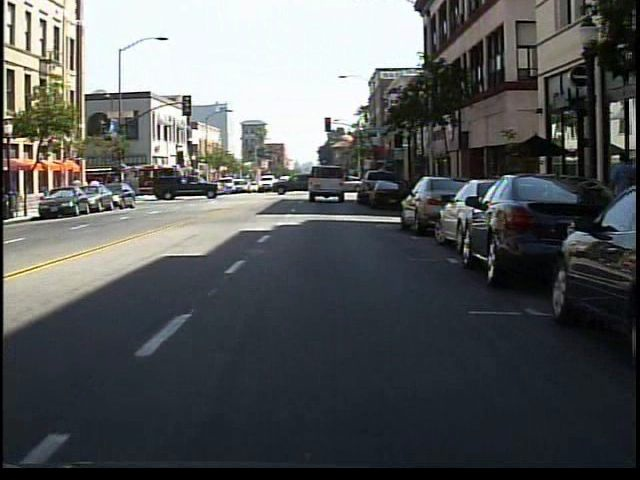person: (604, 147, 633, 246)
